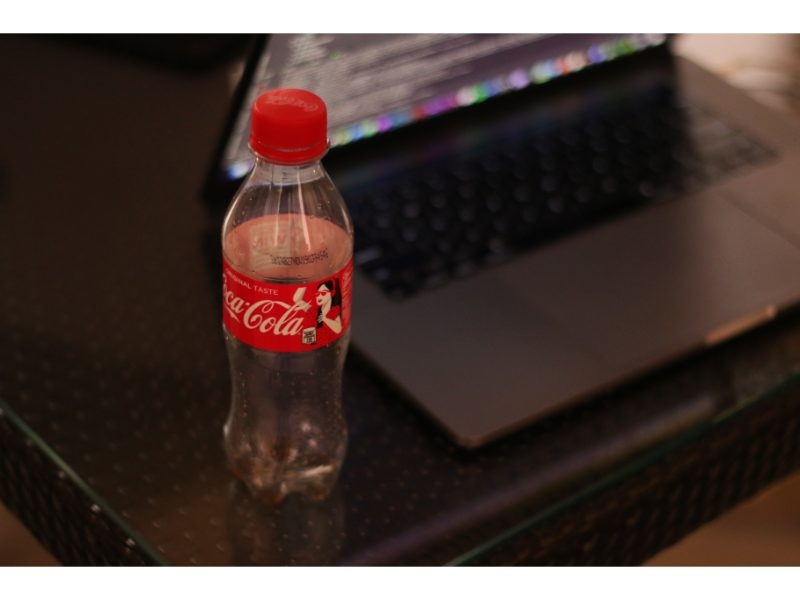PET #1: (211, 91, 360, 511)
